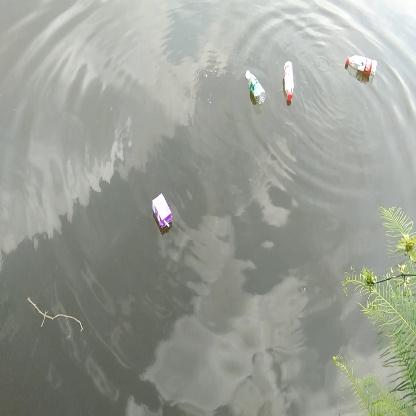bottle: (242, 67, 268, 110), (345, 53, 380, 80), (280, 59, 297, 102)
milk-box: (149, 190, 178, 238)
